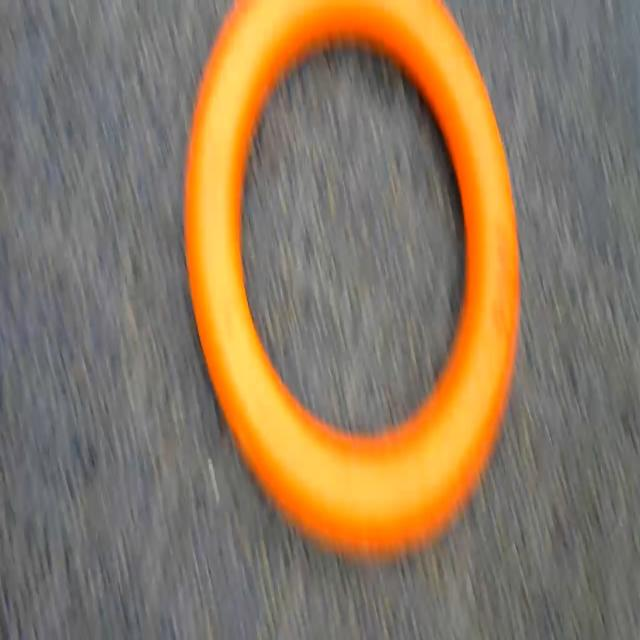note: (173, 0, 541, 573)
